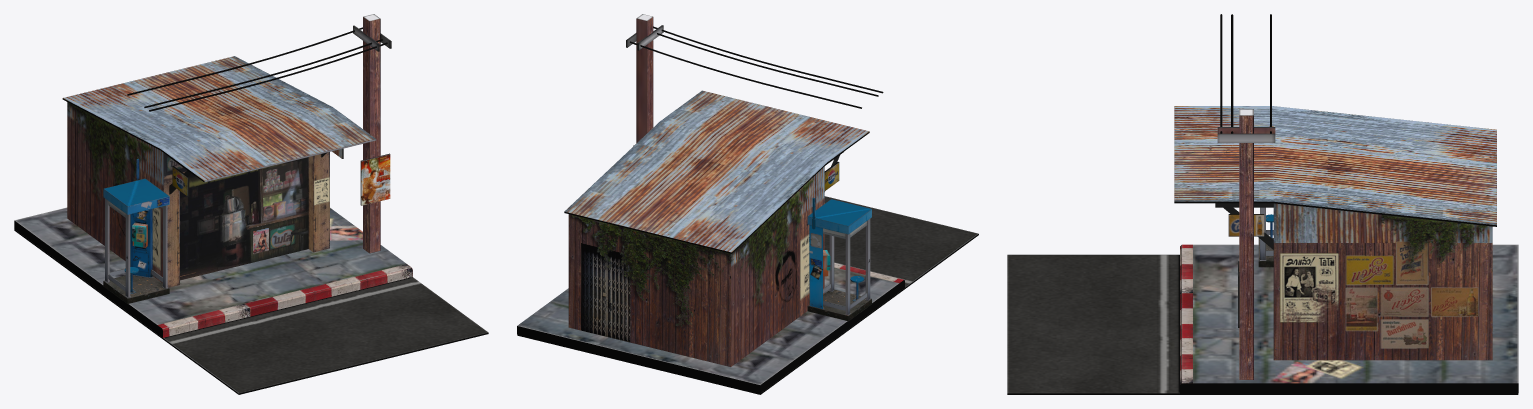
The model's file is Bookshelf.fbx.
3 renders of one model, left to right at view 1: azimuth 30°, elevation 25°; view 2: azimuth 150°, elevation 25°; view 3: azimuth 270°, elevation 25°, orthographic. The views are drawn at different scales.
Visible parts, largest first — view 1: Box001, Box003, Box004; view 2: Box001, Box003, Box004; view 3: Box001, Box003, Box004.
Boxes of the visible parts, x1=… form: Box001: x1=62, y1=56, x2=376, y2=287; Box003: x1=14, y1=14, x2=488, y2=394; Box004: x1=103, y1=158, x2=169, y2=303; Box001: x1=564, y1=90, x2=869, y2=366; Box003: x1=517, y1=14, x2=978, y2=394; Box004: x1=807, y1=198, x2=871, y2=321; Box001: x1=1174, y1=106, x2=1496, y2=360; Box003: x1=1007, y1=14, x2=1518, y2=394; Box004: x1=1258, y1=207, x2=1273, y2=267.
Size of the model in its own units: 180 by 164 by 276.
4 materials, 4 textured.
